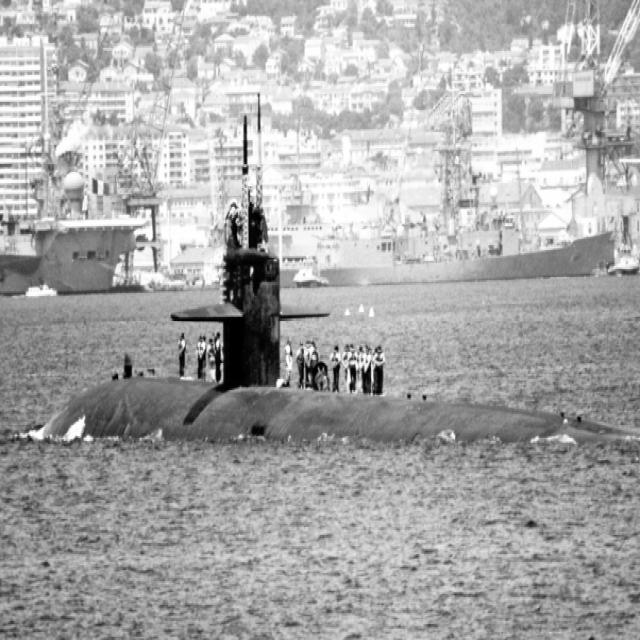submarine: (2, 111, 640, 439)
